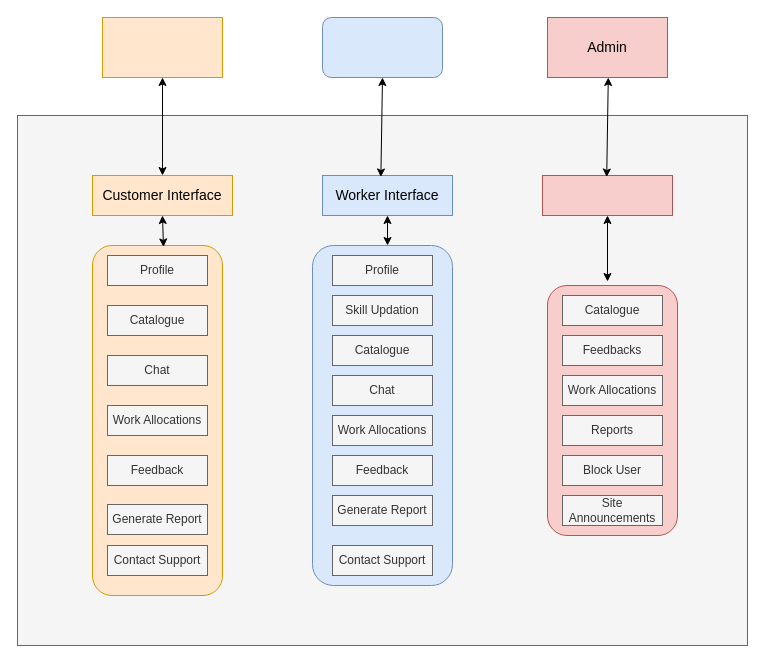
The diagram is 765 pixels wide and 663 high, and some of its shapes have lost their labels. The shapes that lost their labels are listed below. From the top down, each one's centre as x and y in pixels, then its label:
At point 162,47: "Customer".
At point 382,47: "Worker".
At point 607,195: "Admin Interface".
